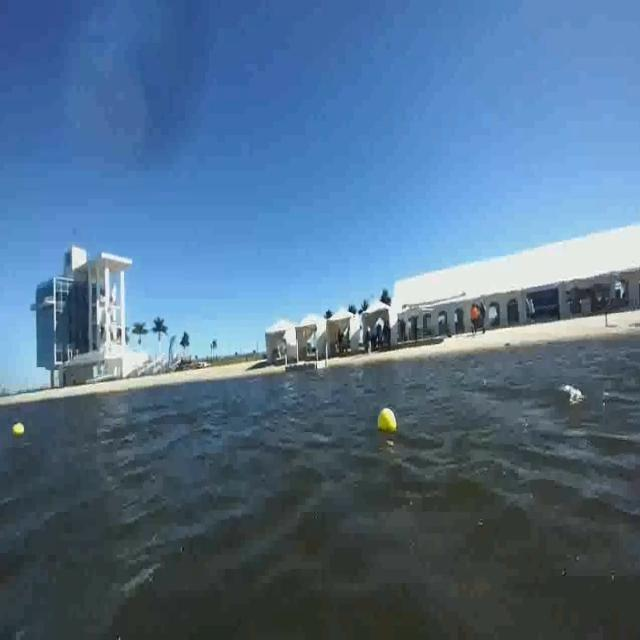yellow-buoy: (375, 407, 395, 434), (11, 419, 25, 439)
